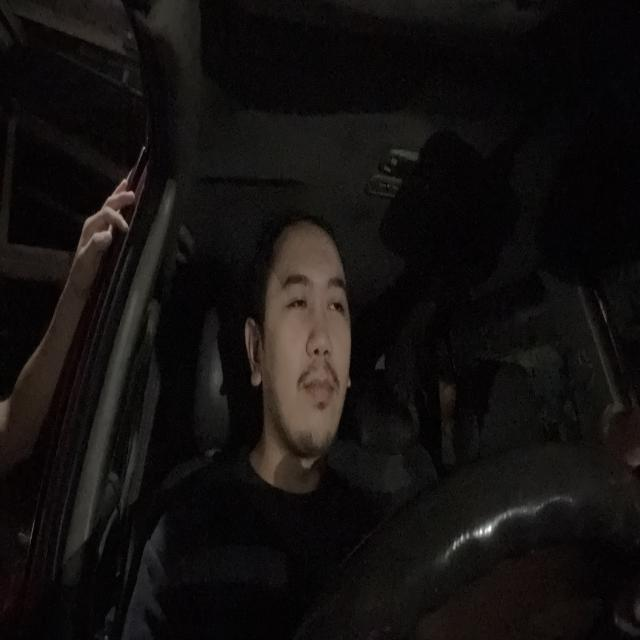open: (278, 273, 314, 321), (327, 275, 348, 322)
